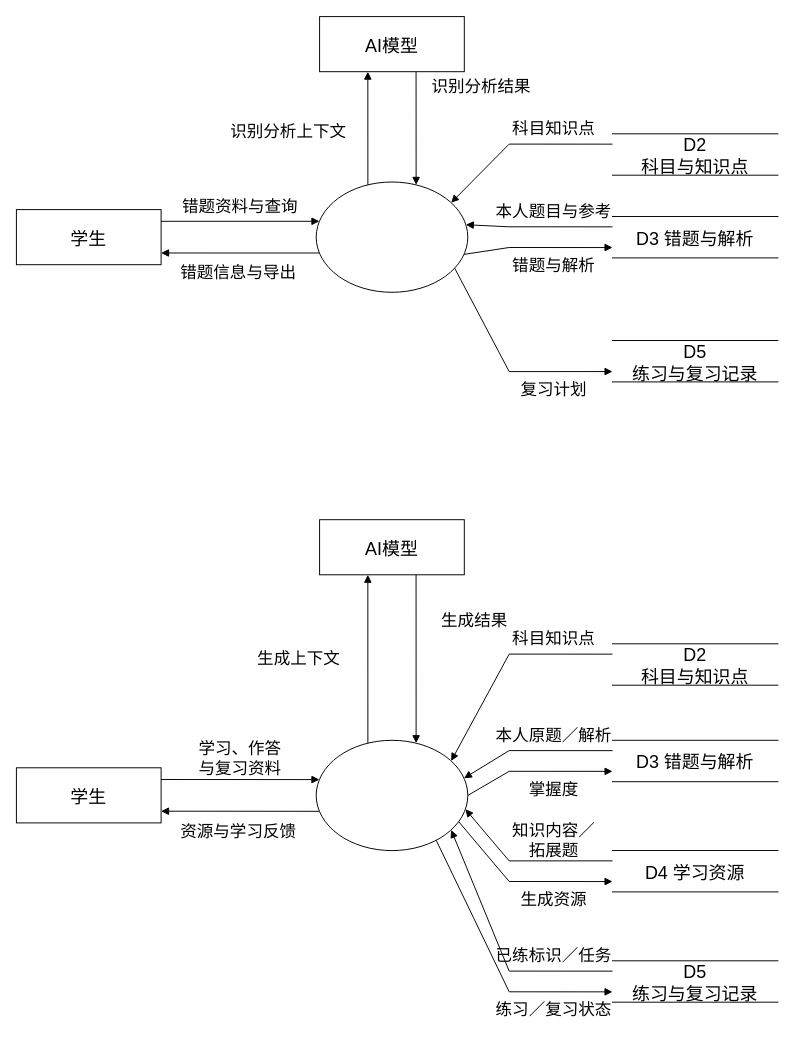
Image size: 794x1037. Some labels were removed from this diagram. Each missing label, with the centre of its shape:
P3 错题录入与分析: (x=391, y=236)
P4 学习练习与复习: (x=391, y=795)
